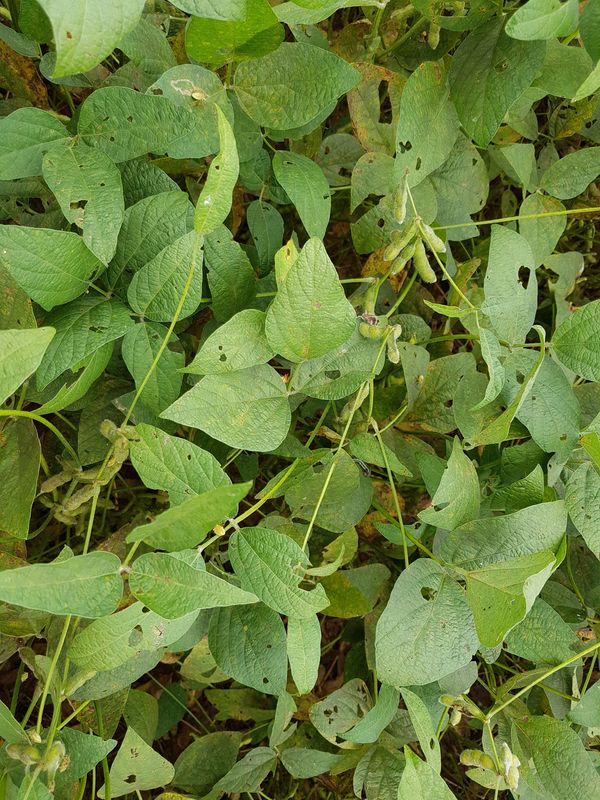Euschistus_heros_ninfa: (208, 521, 230, 542), (189, 87, 211, 107)
Spodoptera_albula: (345, 449, 380, 483)
